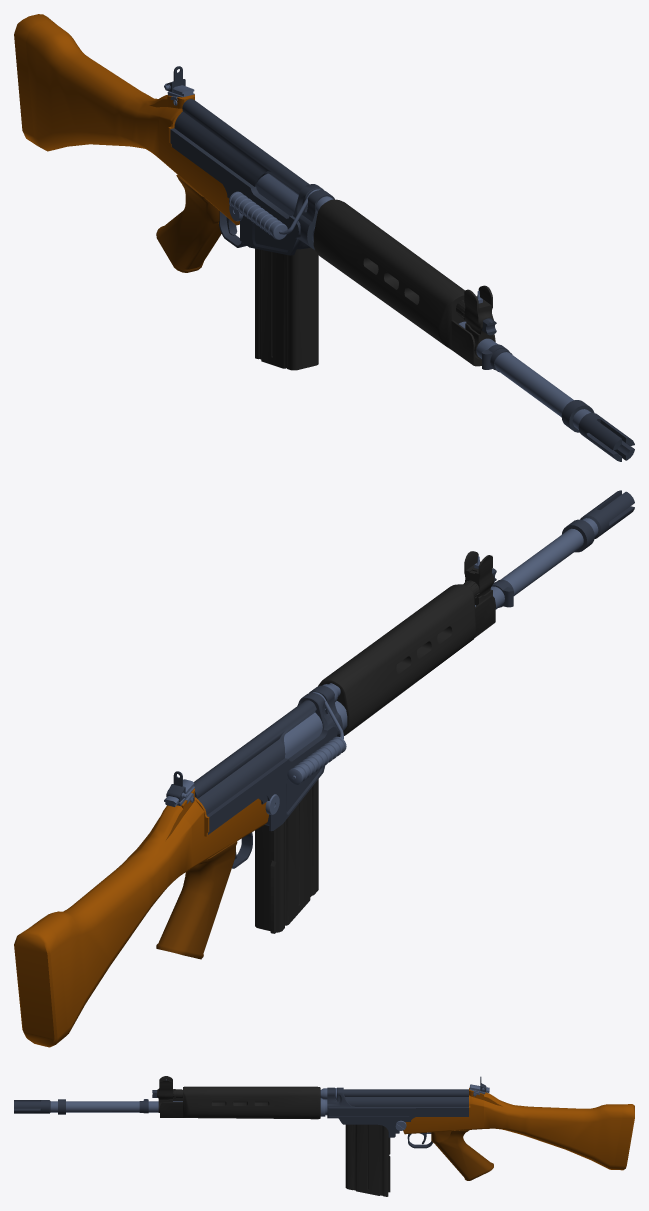
The model's file is GunKalash.fbx.
3 renders of one model, top to bottom at view 1: azimuth 30°, elevation 25°; view 2: azimuth 150°, elevation 25°; view 3: azimuth 270°, elevation 25°, orthographic. The views are drawn at different scales.
Parts seen in each view (by area): view 1: GunKalash; view 2: GunKalash; view 3: GunKalash.
Boxes of the visible parts, bbox=[...] form: GunKalash: bbox=[14, 14, 634, 461]; GunKalash: bbox=[14, 490, 634, 1047]; GunKalash: bbox=[14, 1076, 634, 1196].
Size of the model in its own units: 6.51 by 24.31 by 117.
